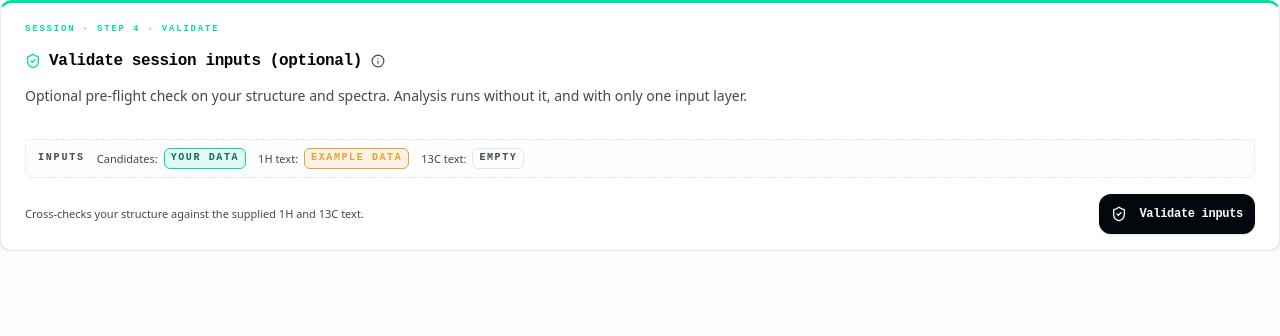
Test case: SessionValidateCard — backend roundtrip › surfaces network errors without crashing
Click the button with test id "session-validate-button". click: point(1177, 214)
box: x1=1100 y1=194 x2=1255 y2=234
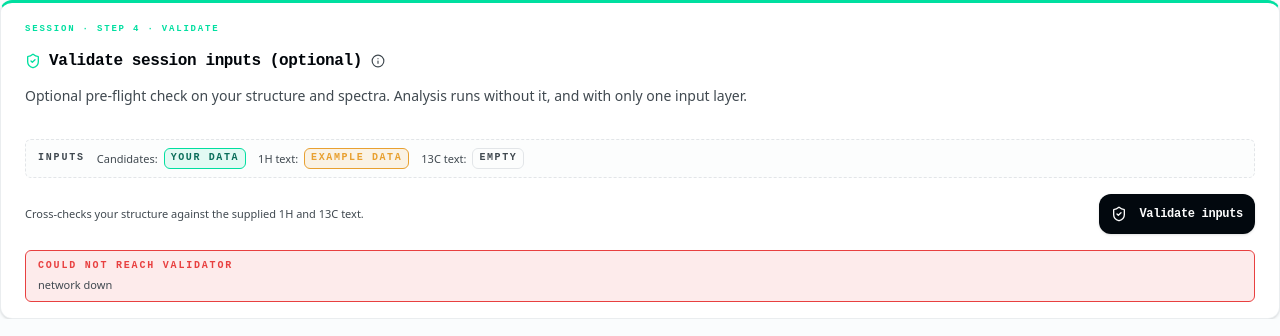
Now the element with test id "session-validate-network-error" is shown, box x1=25 y1=250 x2=1255 y2=302
